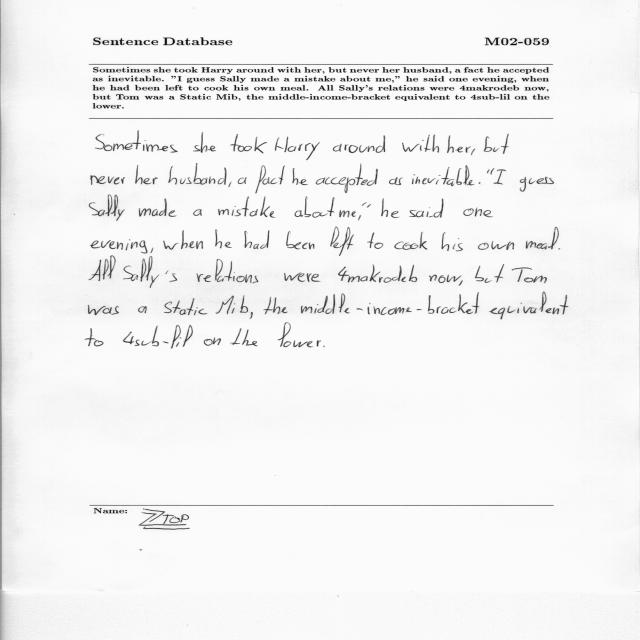word: (301, 292, 479, 315), (489, 292, 569, 319), (95, 131, 178, 153), (316, 164, 378, 193), (123, 256, 177, 288), (123, 325, 193, 349), (197, 259, 258, 284), (338, 265, 417, 283), (412, 165, 475, 186), (169, 163, 227, 185), (218, 196, 275, 218), (278, 323, 321, 348), (275, 137, 320, 160), (333, 135, 385, 153), (89, 195, 125, 221), (91, 239, 148, 254), (255, 166, 285, 194), (295, 197, 335, 218), (163, 230, 203, 250), (164, 298, 207, 315), (526, 227, 559, 249), (230, 134, 267, 153), (139, 198, 176, 217), (330, 227, 354, 256), (89, 256, 116, 281), (402, 135, 439, 153), (409, 199, 444, 218), (394, 232, 428, 250), (216, 295, 248, 314), (447, 136, 475, 156), (512, 268, 547, 283), (520, 177, 554, 192), (287, 231, 315, 249), (230, 329, 258, 347), (193, 132, 216, 153), (245, 231, 270, 250), (135, 165, 158, 184), (263, 297, 288, 314), (441, 233, 463, 252), (429, 275, 463, 286), (284, 272, 321, 282), (485, 264, 504, 283), (381, 198, 399, 218), (85, 329, 104, 347), (91, 175, 125, 185), (478, 241, 514, 250), (215, 230, 232, 249), (493, 134, 509, 154), (88, 305, 119, 315), (292, 168, 308, 185), (368, 232, 384, 249), (463, 208, 493, 217), (494, 170, 506, 185), (204, 337, 221, 346), (475, 266, 484, 281), (484, 136, 492, 152), (339, 210, 356, 217), (389, 177, 403, 185), (238, 177, 247, 184), (193, 209, 202, 216), (138, 306, 147, 313), (487, 168, 494, 175), (362, 203, 371, 208), (249, 312, 253, 319), (229, 182, 232, 187), (358, 215, 361, 220), (151, 248, 153, 253), (479, 182, 481, 184), (558, 249, 560, 250), (324, 346, 326, 347)
